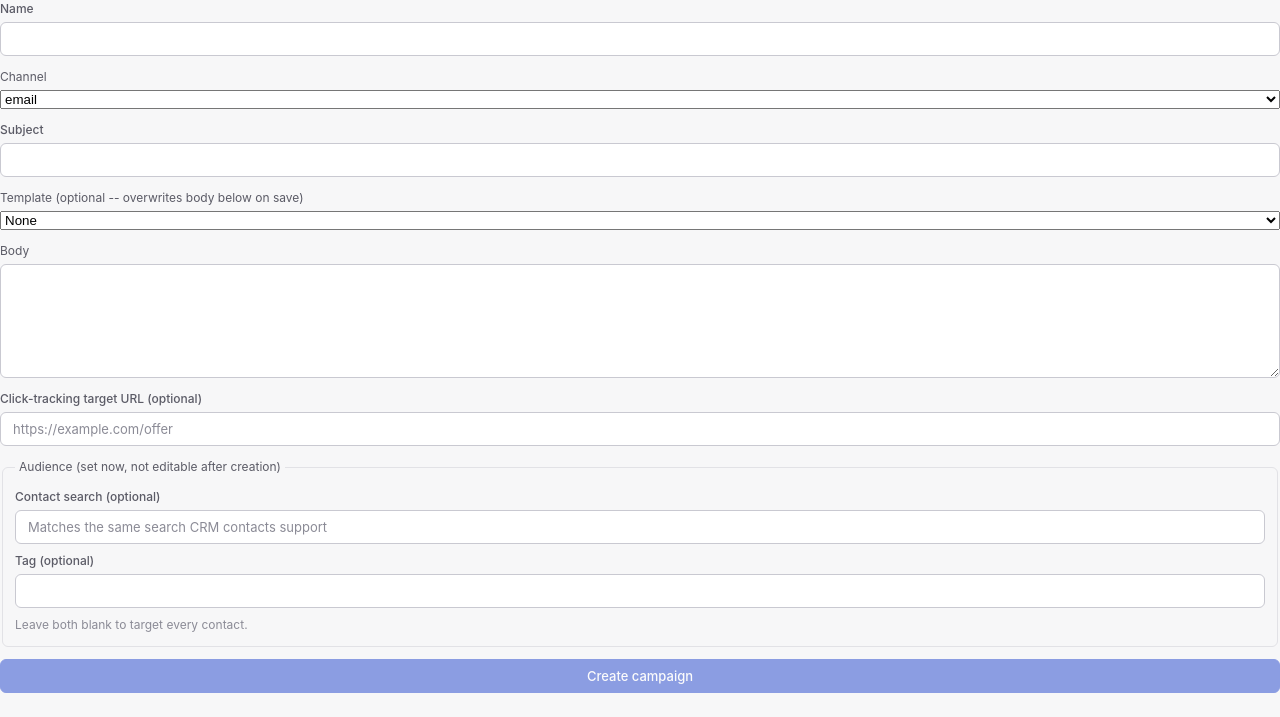
Test: CampaignForm › shows the backend error on failure
In the field labelled "Name": coordinates (640, 39) 0,22 -> 1279,56, type "Launch"
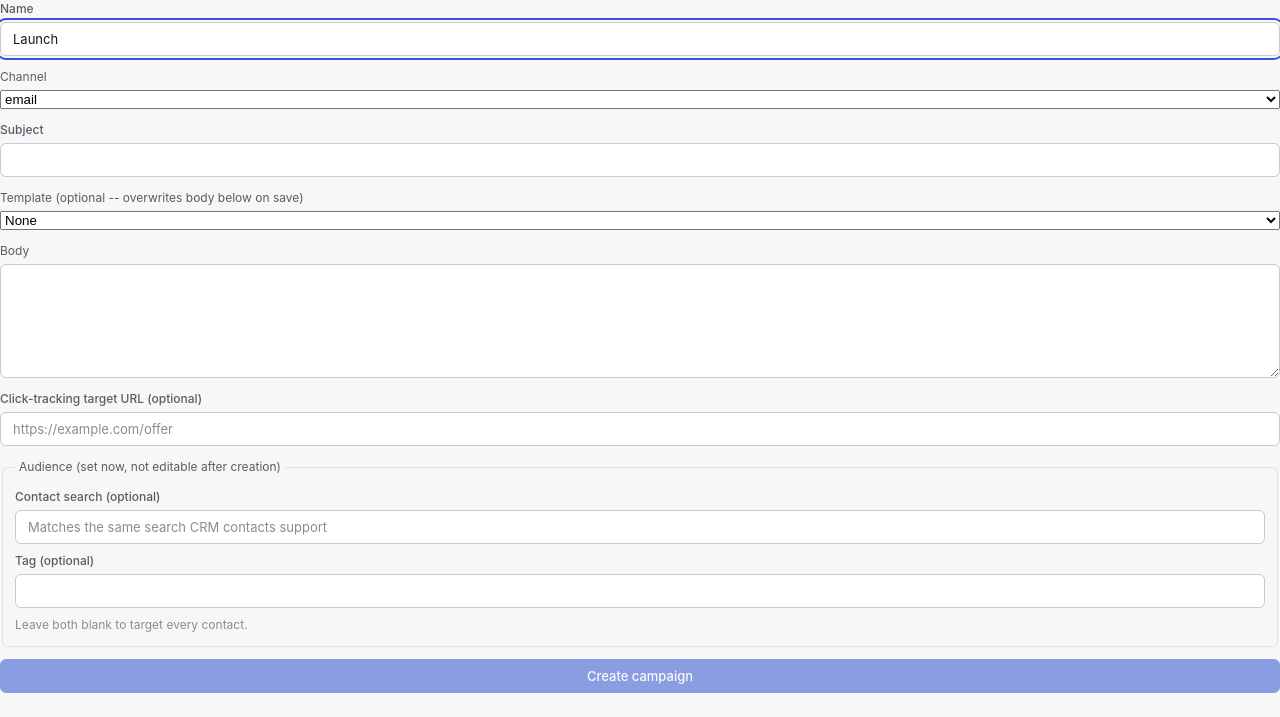
In the text box labelled "Body": coordinates (640, 321) 0,264 -> 1279,378, type "Body text"
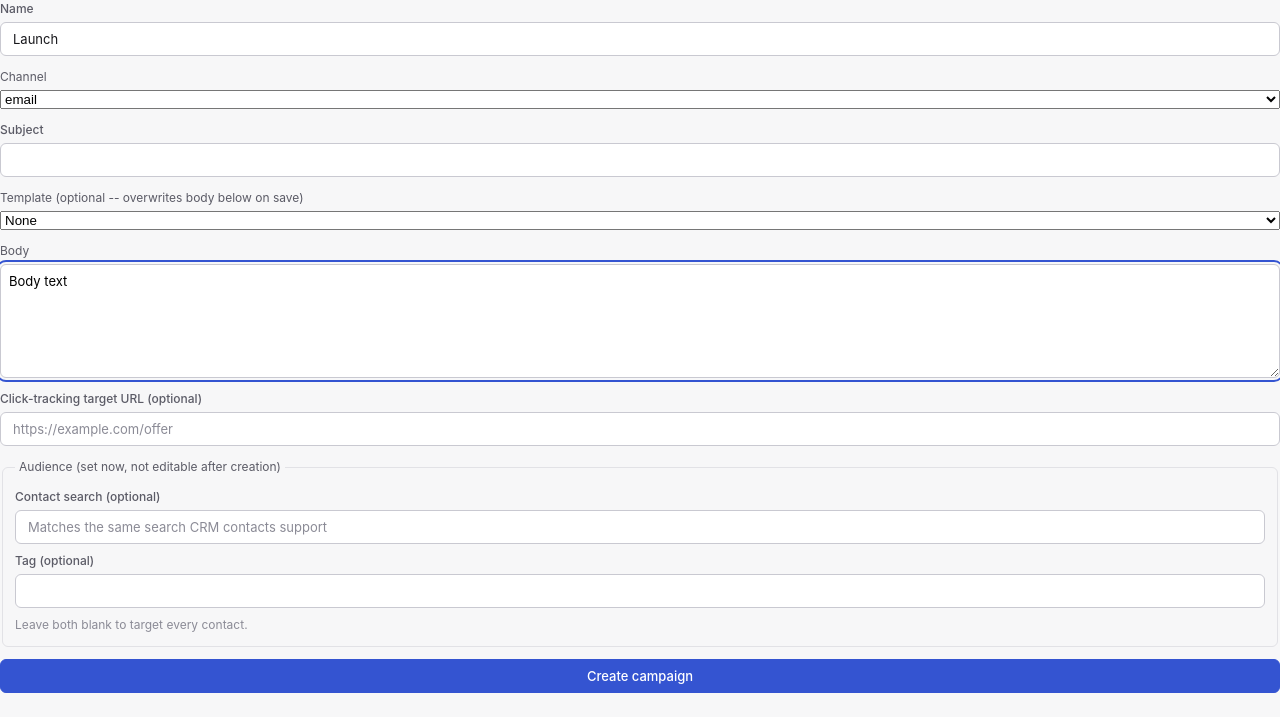
Click the button "Create campaign": coordinates (640, 676) 0,659 -> 1279,693
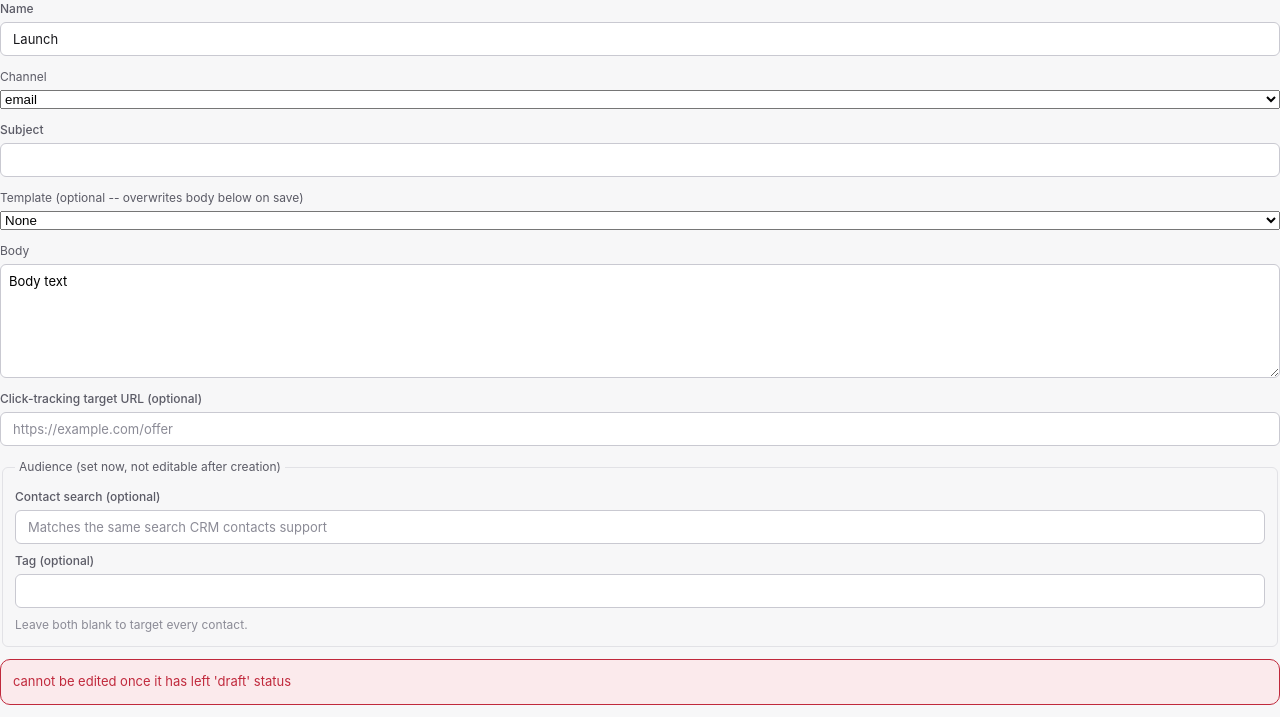
Expected: the text "cannot be edited once it has left 'draft' status" is shown, 13,673 -> 291,689
